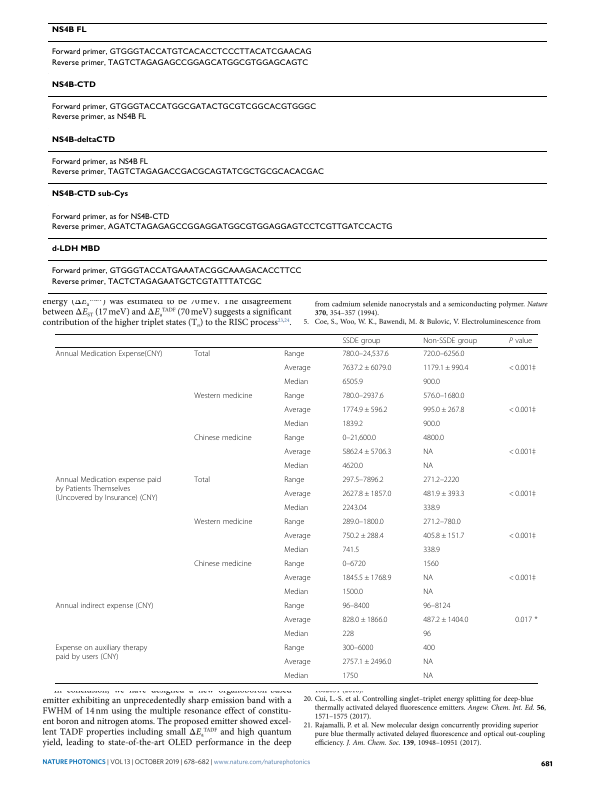borderless: (54, 332, 538, 683), (47, 21, 547, 293)
cell: (50, 222, 393, 232), (55, 475, 162, 503), (50, 167, 324, 177), (50, 102, 317, 112), (50, 58, 309, 68), (50, 48, 312, 57), (50, 267, 302, 276), (50, 277, 262, 287), (55, 643, 148, 662), (50, 212, 170, 222), (55, 349, 163, 359), (55, 601, 154, 611), (50, 157, 148, 167), (50, 113, 147, 122), (50, 190, 129, 199), (50, 135, 116, 145), (193, 391, 253, 401), (193, 517, 253, 527), (193, 433, 252, 443), (193, 559, 252, 569), (341, 363, 392, 373), (341, 447, 392, 457), (341, 489, 392, 499), (341, 573, 392, 583), (341, 657, 392, 667), (422, 336, 478, 345), (341, 349, 390, 359), (422, 363, 469, 373), (341, 405, 388, 415), (341, 615, 388, 625), (422, 615, 469, 625), (50, 80, 96, 90), (50, 245, 100, 254), (341, 531, 385, 541), (422, 349, 465, 359), (341, 391, 384, 401), (422, 391, 465, 401), (422, 405, 465, 415), (341, 475, 384, 485), (422, 489, 465, 499), (341, 517, 384, 527), (422, 531, 465, 541), (422, 517, 461, 527), (422, 475, 460, 485), (341, 336, 381, 345), (341, 433, 377, 443), (50, 26, 87, 35), (341, 643, 374, 653), (508, 363, 537, 373), (508, 405, 537, 415), (508, 447, 537, 457), (508, 489, 537, 499), (508, 531, 537, 541), (508, 573, 537, 583), (341, 601, 370, 611), (422, 601, 451, 611), (283, 363, 311, 373), (283, 405, 311, 415), (283, 447, 311, 457), (283, 489, 311, 499), (283, 531, 311, 541), (283, 573, 311, 583), (283, 615, 311, 625), (283, 657, 311, 667), (341, 503, 368, 513), (283, 377, 309, 387), (283, 419, 309, 429), (283, 461, 309, 471), (283, 503, 309, 513), (283, 545, 309, 555), (341, 559, 367, 569), (283, 587, 309, 597), (283, 629, 309, 639), (283, 671, 309, 681), (514, 615, 538, 625), (341, 377, 364, 387), (341, 419, 364, 429), (422, 433, 445, 443), (341, 461, 364, 471), (341, 587, 364, 597), (508, 336, 533, 345), (283, 349, 305, 359), (283, 391, 305, 401), (283, 433, 305, 443), (283, 475, 305, 485), (283, 517, 305, 527), (283, 559, 305, 569), (283, 601, 305, 611), (283, 643, 305, 653), (422, 377, 441, 387), (422, 419, 441, 429), (422, 503, 441, 513), (341, 545, 360, 555), (422, 545, 441, 555), (193, 349, 211, 359), (193, 475, 211, 485), (422, 559, 440, 569), (341, 671, 359, 681), (341, 629, 355, 639), (422, 643, 436, 653), (422, 447, 434, 457), (422, 461, 434, 471), (422, 573, 434, 583), (422, 587, 434, 597), (422, 657, 434, 667), (422, 671, 434, 681), (422, 629, 432, 639)
